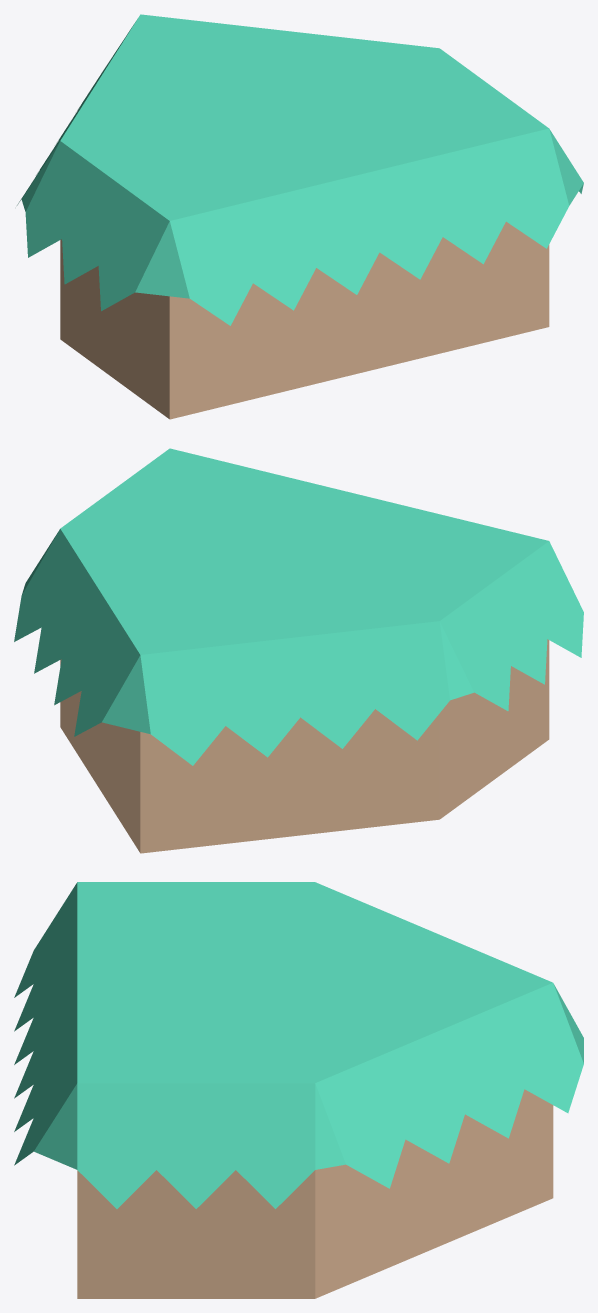
File: blockEnd.glb
3 views of the same model, one above another, from view 1: azimuth 30°, elevation 25°; view 2: azimuth 150°, elevation 25°; view 3: azimuth 270°, elevation 25° (orthographic). The views are drawn at different scales.
Visible parts, largest first — view 1: blockEnd; view 2: blockEnd; view 3: blockEnd.
Boxes of the visible parts, x1=… form: blockEnd: x1=17, y1=14, x2=583, y2=419; blockEnd: x1=14, y1=448, x2=583, y2=853; blockEnd: x1=14, y1=882, x2=583, y2=1298.
Bounding box in the file's own units: 1.27 × 0.5 × 1.2.
